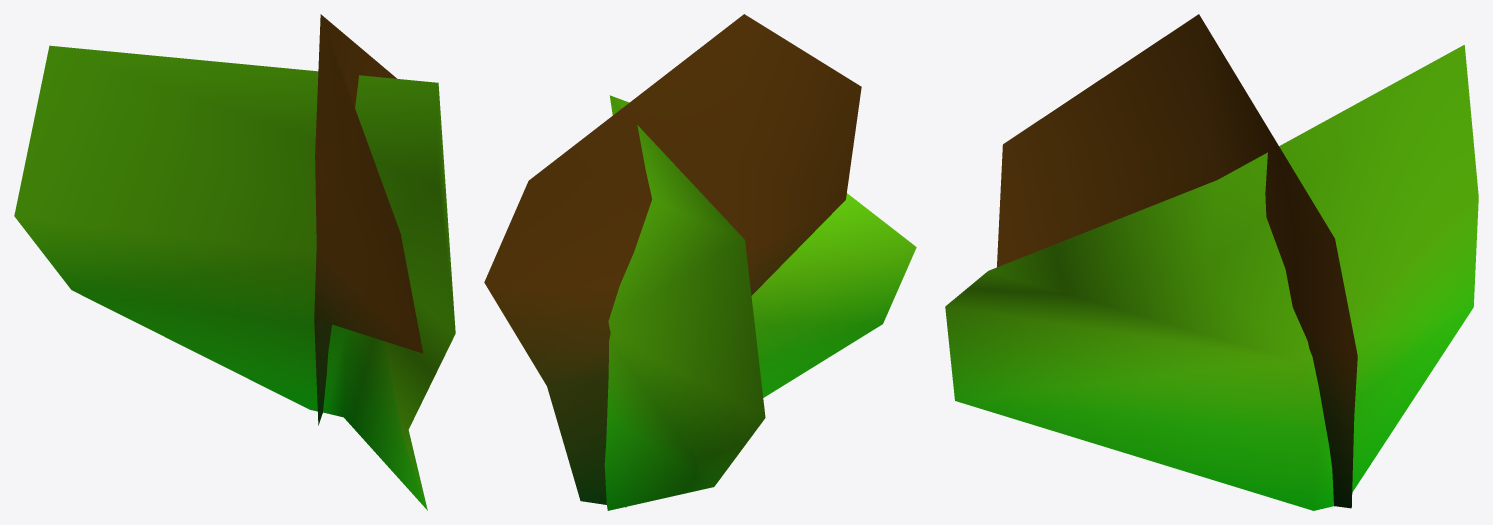
File: Var1Hi12.fbx
3 renders of one model, left to right at view 1: azimuth 30°, elevation 25°; view 2: azimuth 150°, elevation 25°; view 3: azimuth 270°, elevation 25°, orthographic.
Parts seen in each view (by area): view 1: bend1; view 2: bend1; view 3: bend1.
Part boxes in pixels (x1=…): bend1: x1=14, y1=14, x2=455, y2=510; bend1: x1=484, y1=14, x2=916, y2=510; bend1: x1=945, y1=14, x2=1478, y2=510.
Size of the model in its own units: 1.04 by 1.35 by 1.41.
